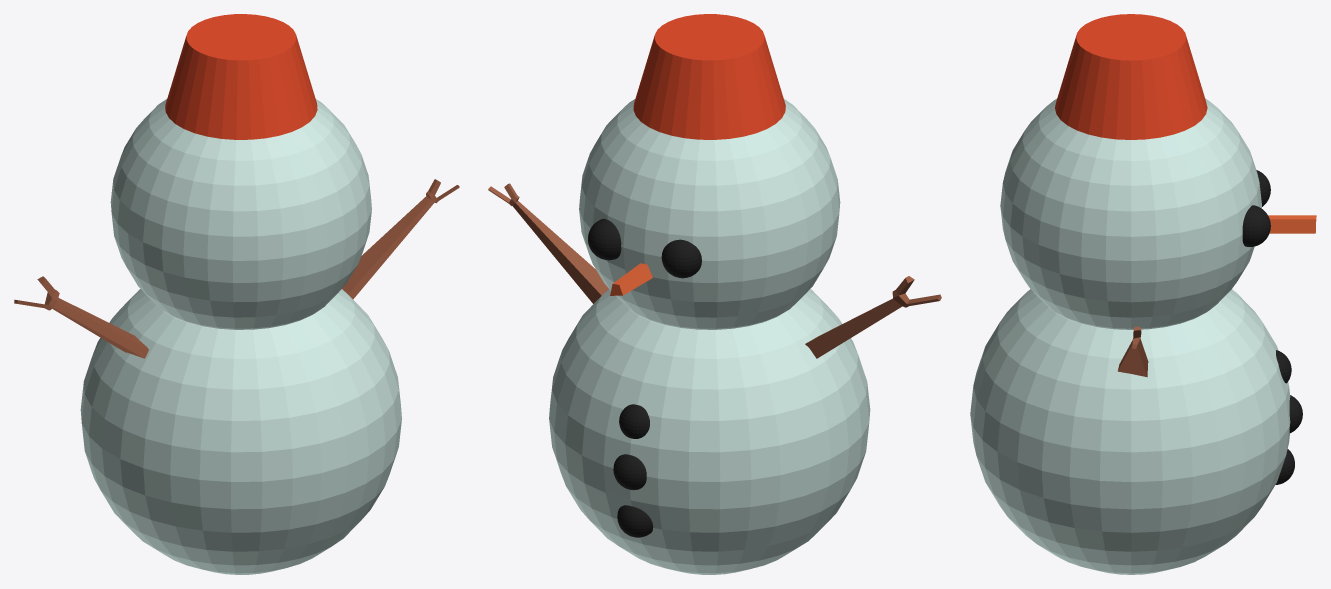
The model's file is snow man.002.fbx.
The picture shows the model from 3 angles, left to right: view 1: azimuth 30°, elevation 25°; view 2: azimuth 150°, elevation 25°; view 3: azimuth 270°, elevation 25°; orthographic projection.
Parts seen in each view (by area): view 1: snow man.002; view 2: snow man.002; view 3: snow man.002.
Boxes of the visible parts, x1,y1,x2,y2 form: snow man.002: [14, 14, 459, 574]; snow man.002: [488, 14, 941, 574]; snow man.002: [970, 14, 1316, 574].
Bounding box in the file's own units: 321 × 358 × 215.
